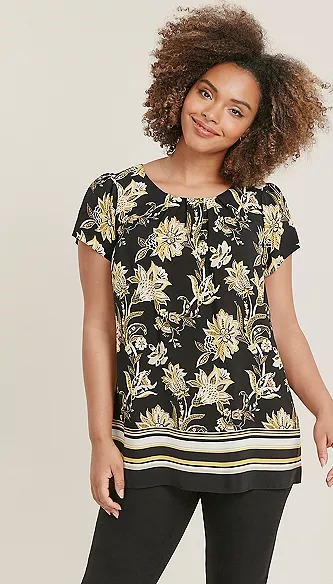C_short blouse: (71, 162, 316, 496)
